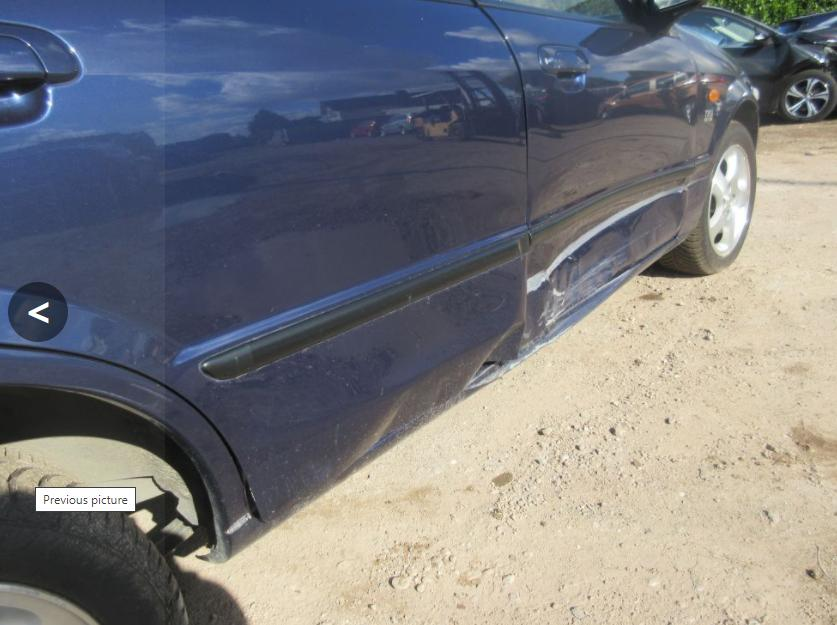Back-door: (1, 0, 528, 522)
Back-wheel: (0, 447, 185, 624)
Fender: (674, 29, 758, 232)
Front-door: (477, 1, 695, 350)
Front-wheel: (660, 126, 755, 276)
Front-window: (500, 0, 622, 22)
Mirror: (632, 0, 705, 34)
Quarter-panel: (0, 347, 247, 532)
Rocker-panel: (203, 231, 687, 561)
